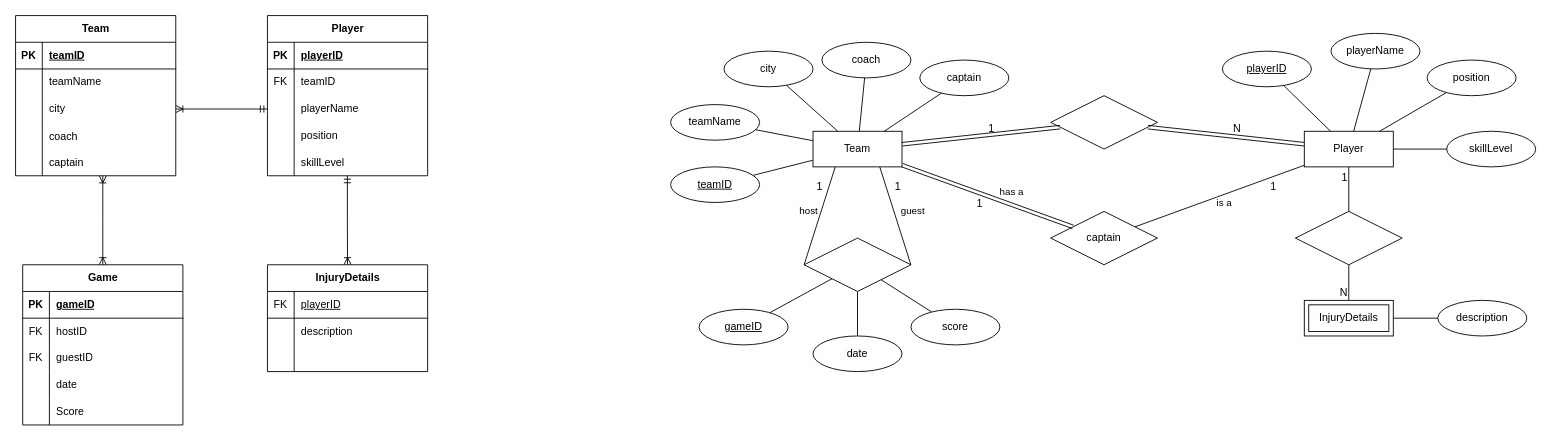
The diagram is 1551 pixels wide and 441 high, and some of its shapes have lost their labels. The shapes that lost their labels are listed below. From the top down, each one's centre as x and y in pixels, then its label:
At [1103,122]: "playsFor".
At [1348,237]: "has".
At [857,264]: "PlaysAgainst".
